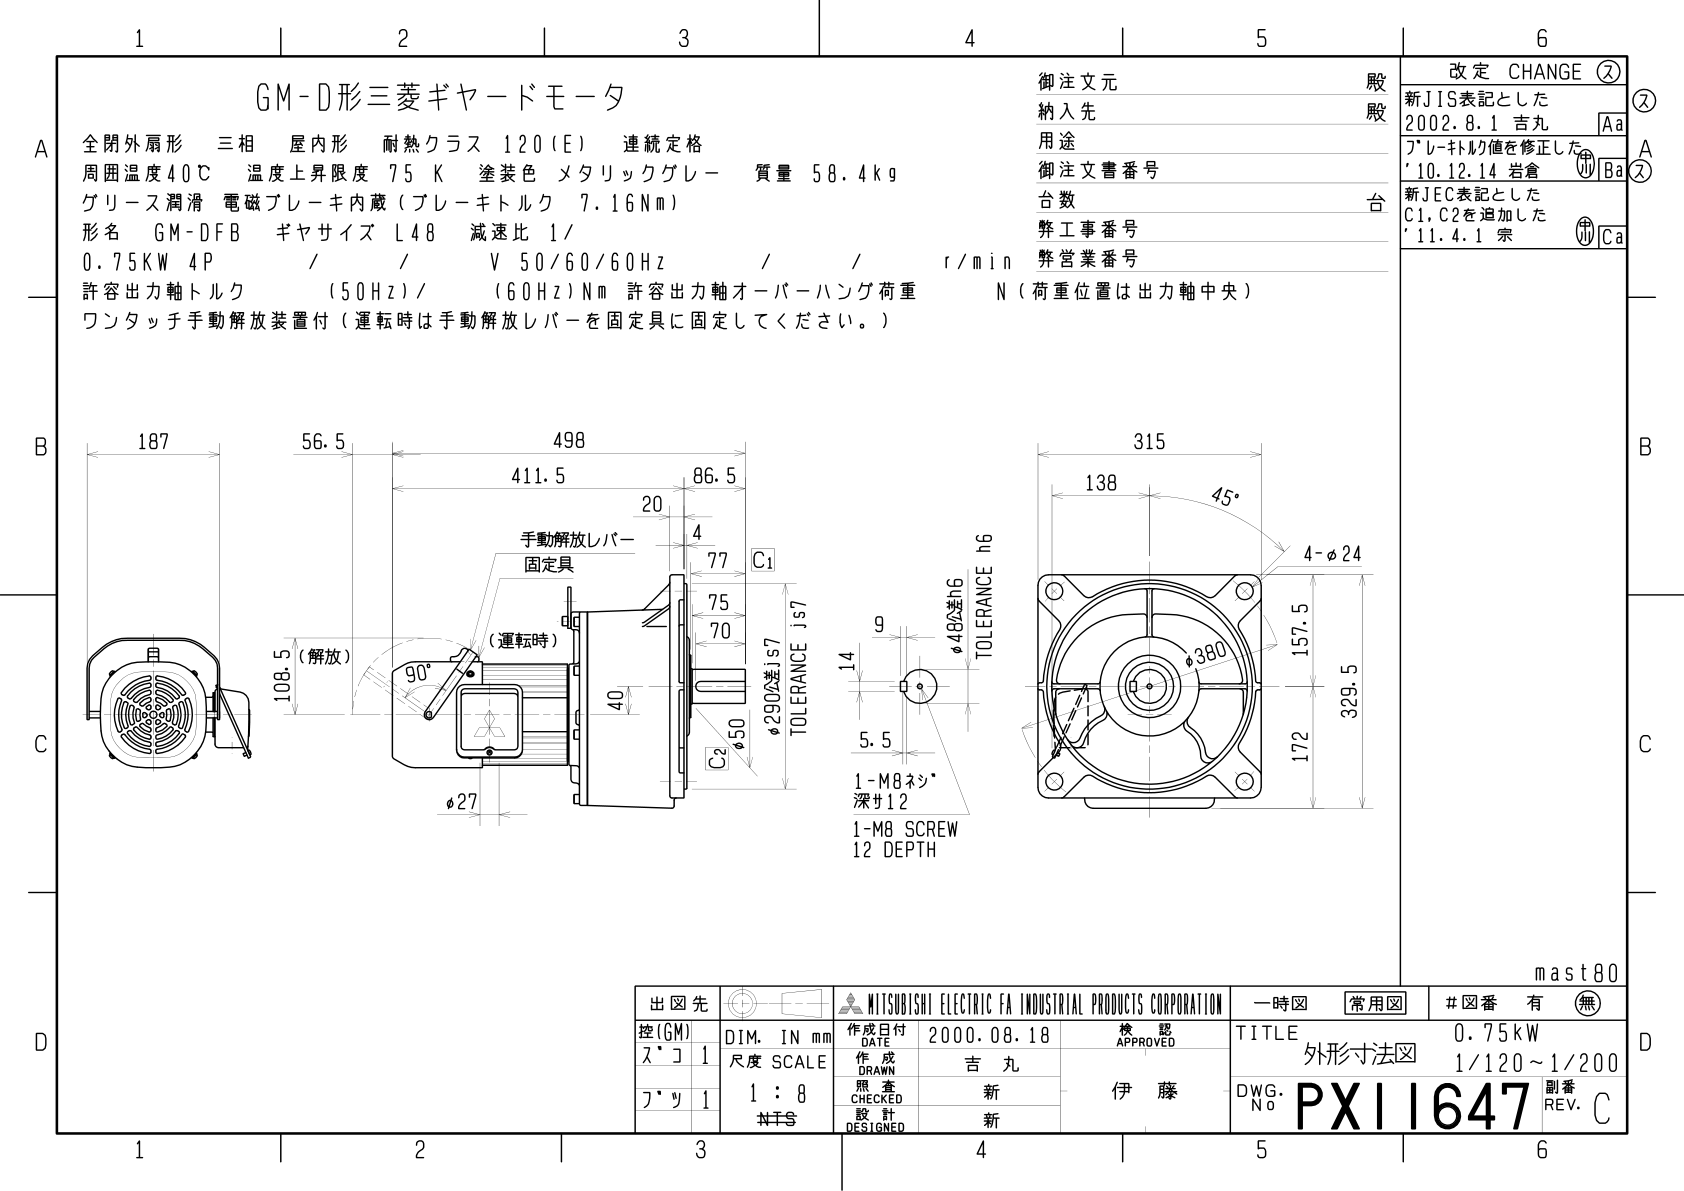GM_D_手動解放ブレーキ＿三相_フランジ: (63, 416, 1386, 904)
